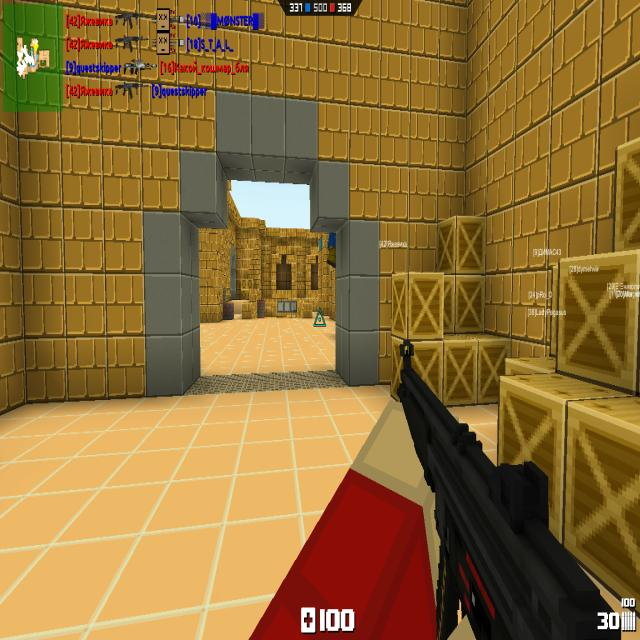enemy: (326, 227, 337, 268)
